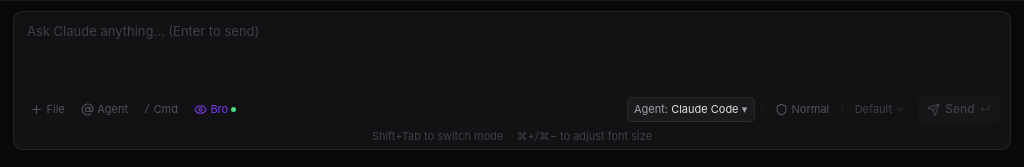
it: InputArea › clears input after successful send
// Type text into the textarea
In the text box with placeholder "Ask Claude anything... (Enter to send)": (512, 51) [14, 12, 1010, 90], type "Hello world"
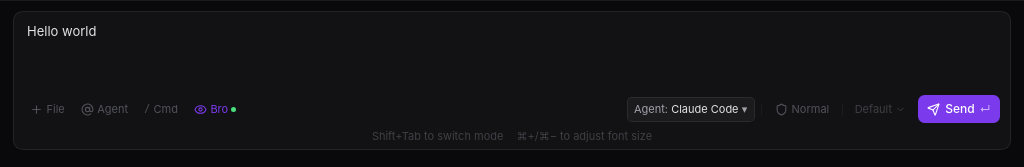
Now the button "Send ↵" is enabled, box [918, 95, 1000, 123]
